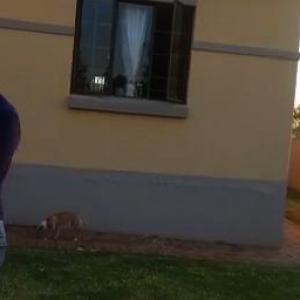follow: (0, 8, 24, 299)
null: (32, 205, 99, 244)
